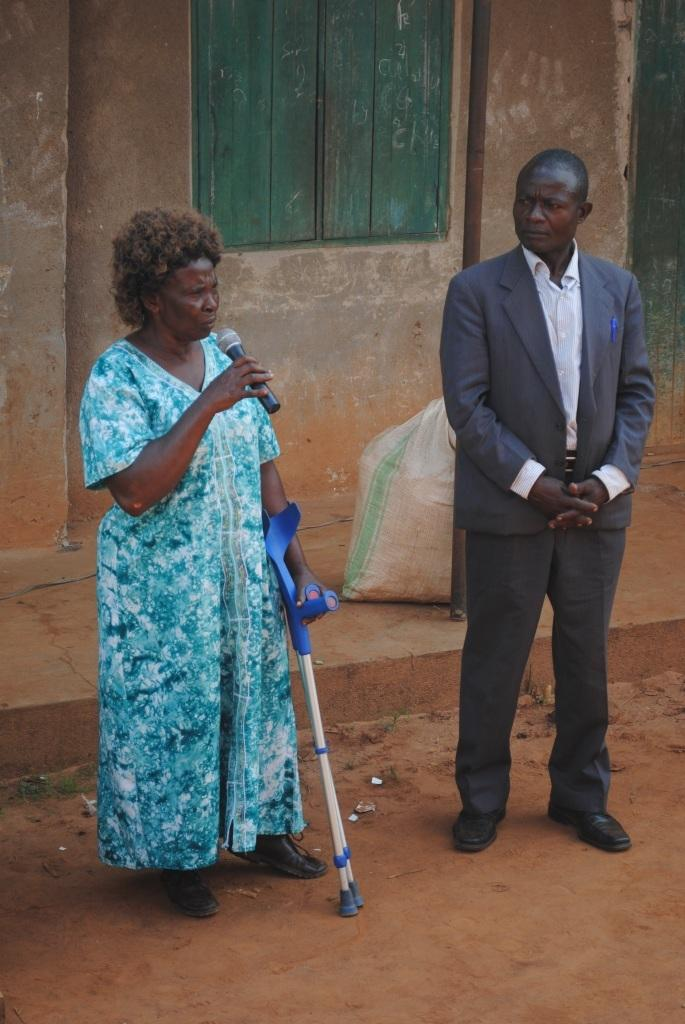crutches: (74, 198, 371, 930)
